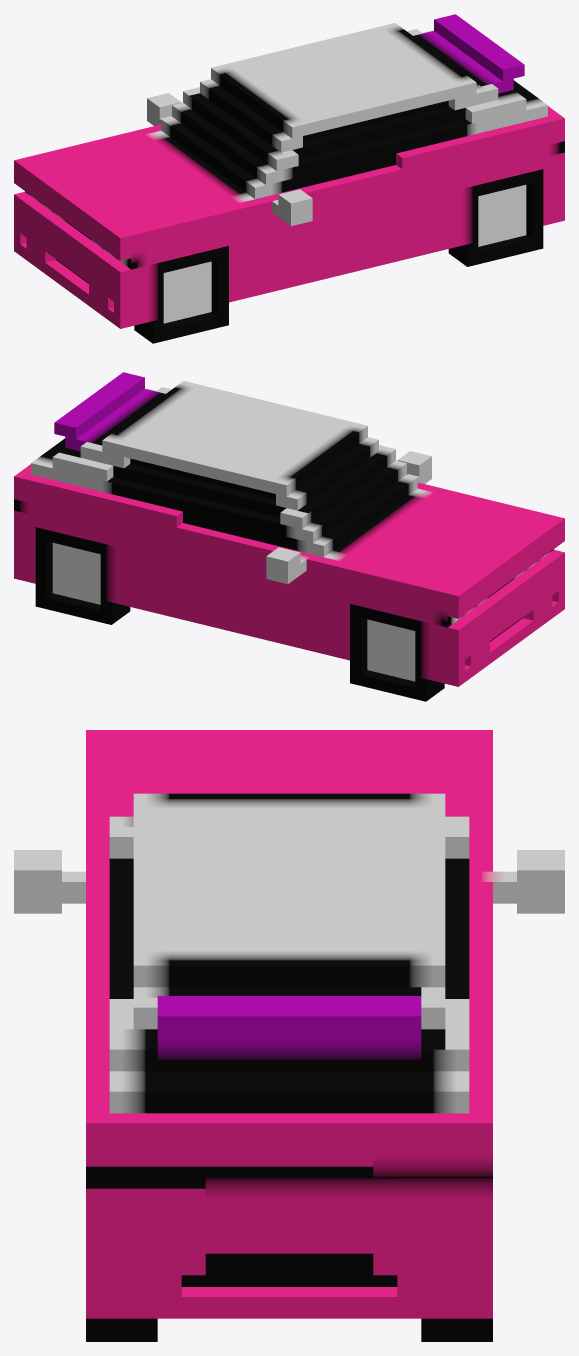
Rendered from Pinkie.obj.
3 views of the same model, one above another, from view 1: azimuth 30°, elevation 25°; view 2: azimuth 150°, elevation 25°; view 3: azimuth 270°, elevation 25° (orthographic). The views are drawn at different scales.
Parts seen in each view (by area): view 1: Car9; view 2: Car9; view 3: Car9.
Boxes of the visible parts, left/top/right/bottom form: Car9: left=14, top=14, right=564, bottom=343; Car9: left=14, top=372, right=564, bottom=701; Car9: left=14, top=730, right=564, bottom=1341.
Bounding box in the file's own units: 2.05 × 0.75 × 1.15.
1 material, 1 textured.
